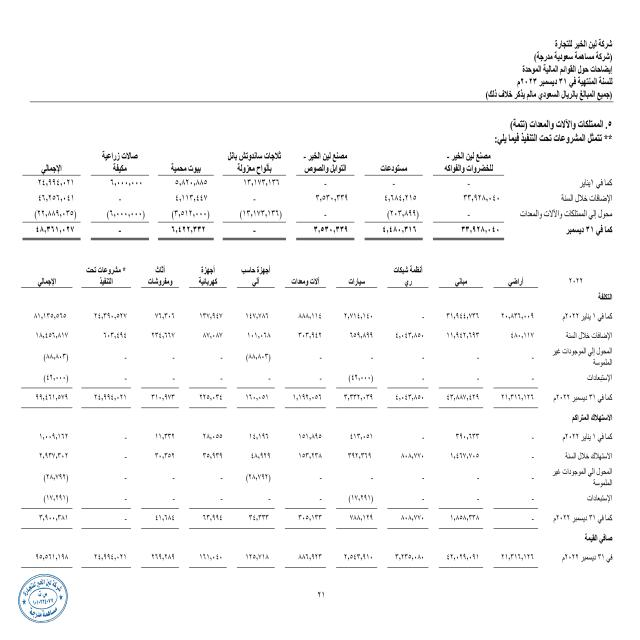notes: (505, 65, 612, 77)
table: (16, 280, 618, 570), (20, 148, 499, 264)
